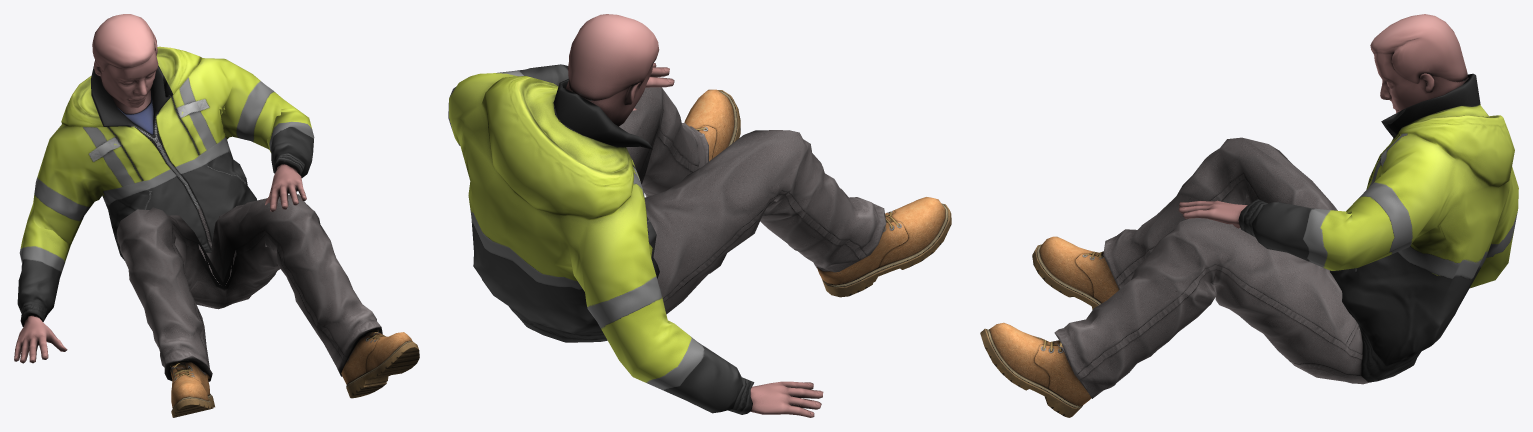
Rendered from rescue_randy.dae.
The picture shows the model from 3 angles, left to right: view 1: azimuth 30°, elevation 25°; view 2: azimuth 150°, elevation 25°; view 3: azimuth 270°, elevation 25°; orthographic projection. The views are drawn at different scales.
Visible parts, largest first — view 1: RescueRandy_Sitting; view 2: RescueRandy_Sitting; view 3: RescueRandy_Sitting.
Boxes of the visible parts, bbox=[...] form: RescueRandy_Sitting: bbox=[14, 14, 419, 417]; RescueRandy_Sitting: bbox=[448, 14, 951, 417]; RescueRandy_Sitting: bbox=[980, 14, 1518, 417].
Size of the model in its own units: 7472 by 10184 by 7299.
Materials: 1 (1 with a texture image).
